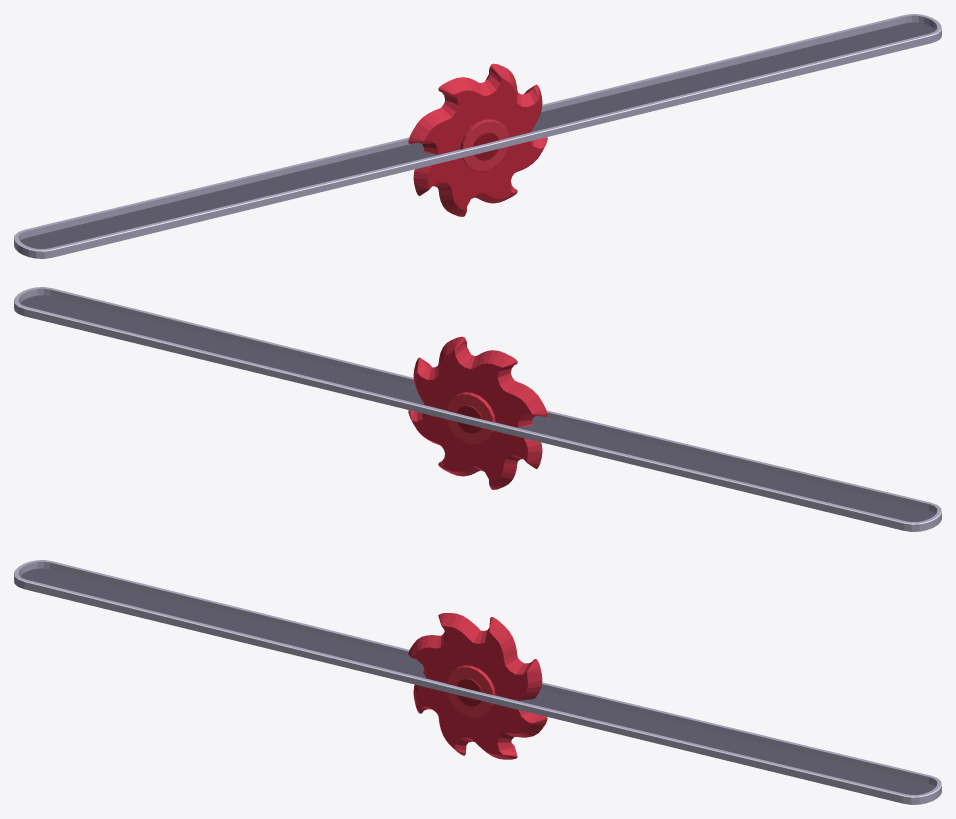
Rendered from Hurdle16.fbx.
3 views of the same model, one above another, from view 1: azimuth 30°, elevation 25°; view 2: azimuth 150°, elevation 25°; view 3: azimuth 330°, elevation 25° (orthographic).
Visible parts, largest first — view 1: Hurdle16; view 2: Hurdle16; view 3: Hurdle16.
Boxes of the visible parts, x1,y1,x2,y2 form: Hurdle16: (14,14,941,258); Hurdle16: (14,287,941,531); Hurdle16: (14,560,941,804).
Size of the model in its own units: 9.92 by 1.5 by 0.5226.
Materials: 1 (1 with a texture image).
